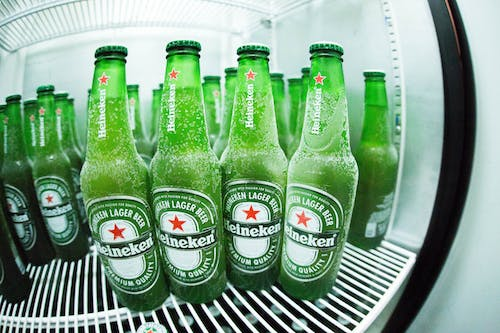alcohol: (79, 44, 170, 313), (147, 38, 227, 304), (279, 42, 359, 300), (220, 43, 288, 291), (31, 84, 90, 263), (347, 69, 400, 249), (3, 93, 57, 266), (55, 89, 94, 247)
